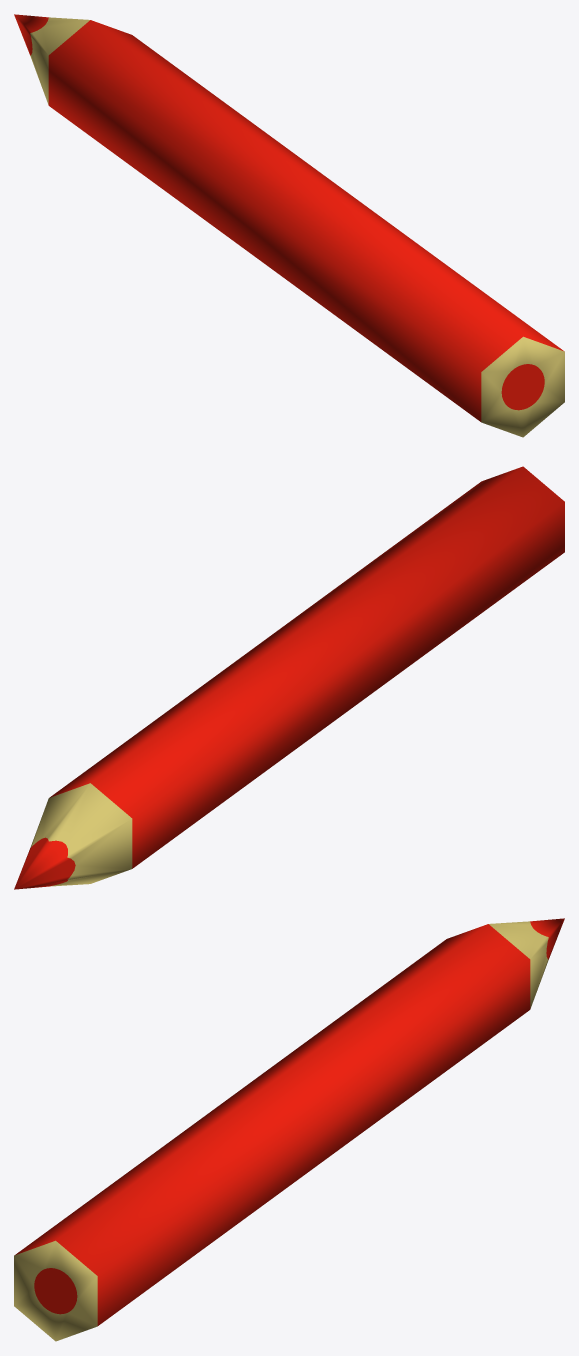
File: Pencil.fbx
The picture shows the model from 3 angles, top to bottom: view 1: azimuth 30°, elevation 25°; view 2: azimuth 150°, elevation 25°; view 3: azimuth 330°, elevation 25°; orthographic projection.
Parts seen in each view (by area): view 1: Pencil; view 2: Pencil; view 3: Pencil.
Part boxes in pixels (x1,y1,x2,y2): Pencil: (14,14,564,437); Pencil: (14,466,564,889); Pencil: (14,918,564,1341).
Size of the model in its own units: 2.12 by 2.45 by 22.35.
